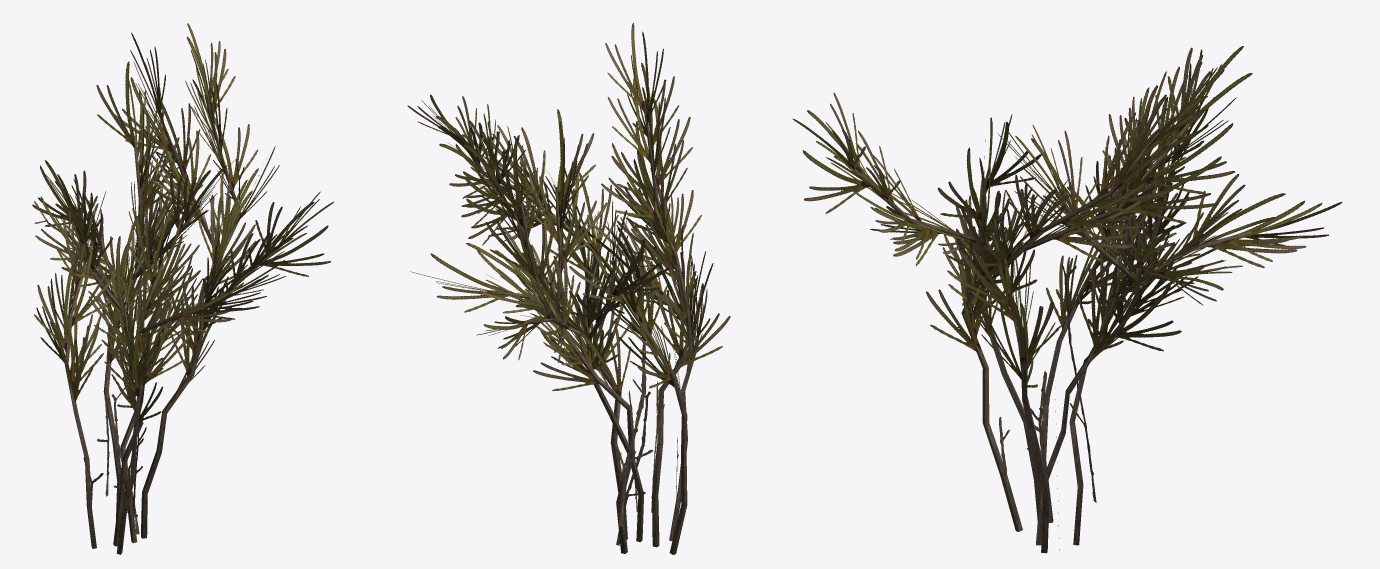
The model's file is bush_dry_e.glb.
The picture shows the model from 3 angles, left to right: view 1: azimuth 30°, elevation 25°; view 2: azimuth 150°, elevation 25°; view 3: azimuth 270°, elevation 25°; orthographic projection. The views are drawn at different scales.
Visible parts, largest first — view 1: bush_dry_e; view 2: bush_dry_e; view 3: bush_dry_e.
Part boxes in pixels (box(x1,y1,x2,y2)): bush_dry_e: box(32, 23, 333, 554); bush_dry_e: box(407, 23, 730, 554); bush_dry_e: box(792, 46, 1342, 553).
Bounding box in the file's own units: 0.1763 × 0.3195 × 0.291.
2 materials, 2 textured.
